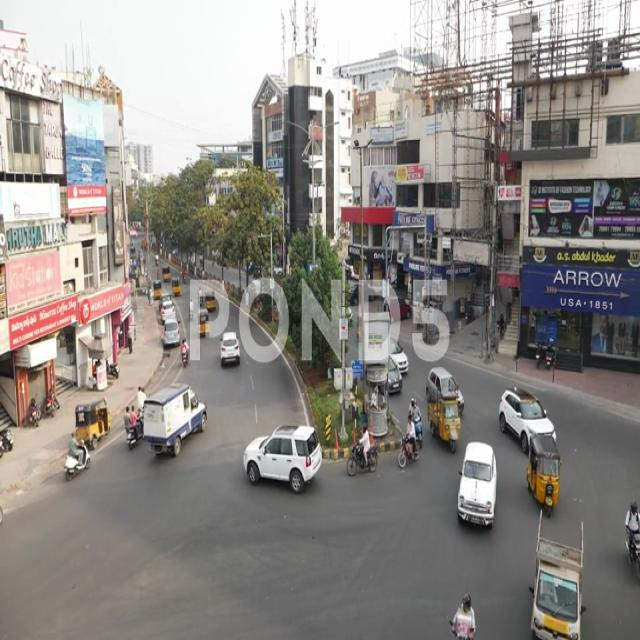cab: (456, 444, 496, 532)
car: (244, 424, 321, 496)
motorbike: (346, 426, 378, 476)
rikshaw: (532, 443, 564, 515)
truck: (146, 376, 222, 471), (428, 370, 461, 449)
